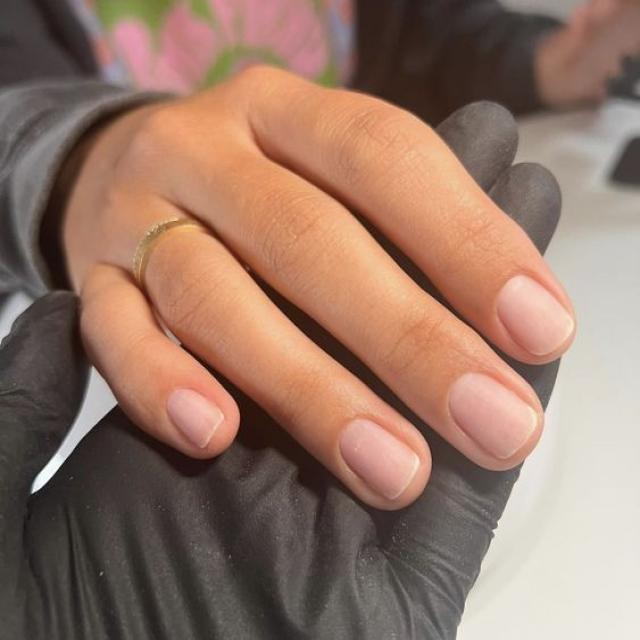Fingernail: (450, 374, 537, 457), (340, 420, 418, 498), (497, 276, 572, 354), (168, 389, 223, 447)
